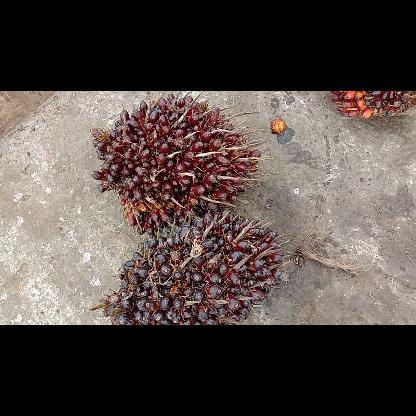Kurang masak: (102, 210, 284, 322)
TBS masak: (91, 91, 261, 235)
